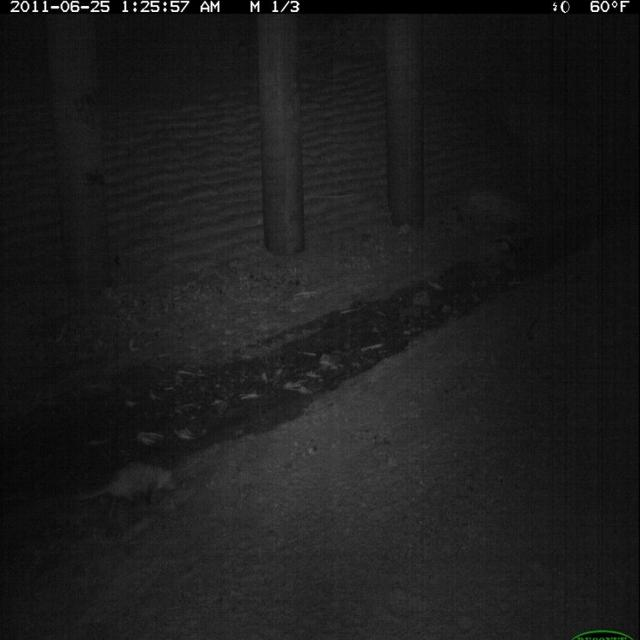opossum: (70, 457, 184, 527)
